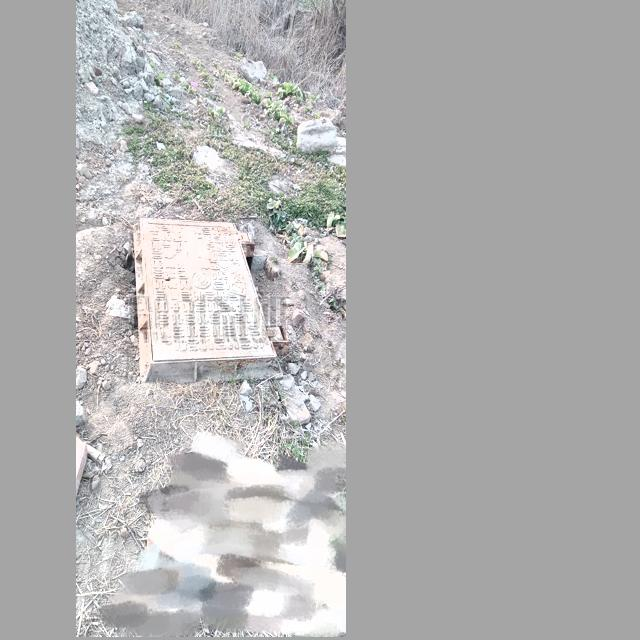circle: (128, 213, 290, 386)
